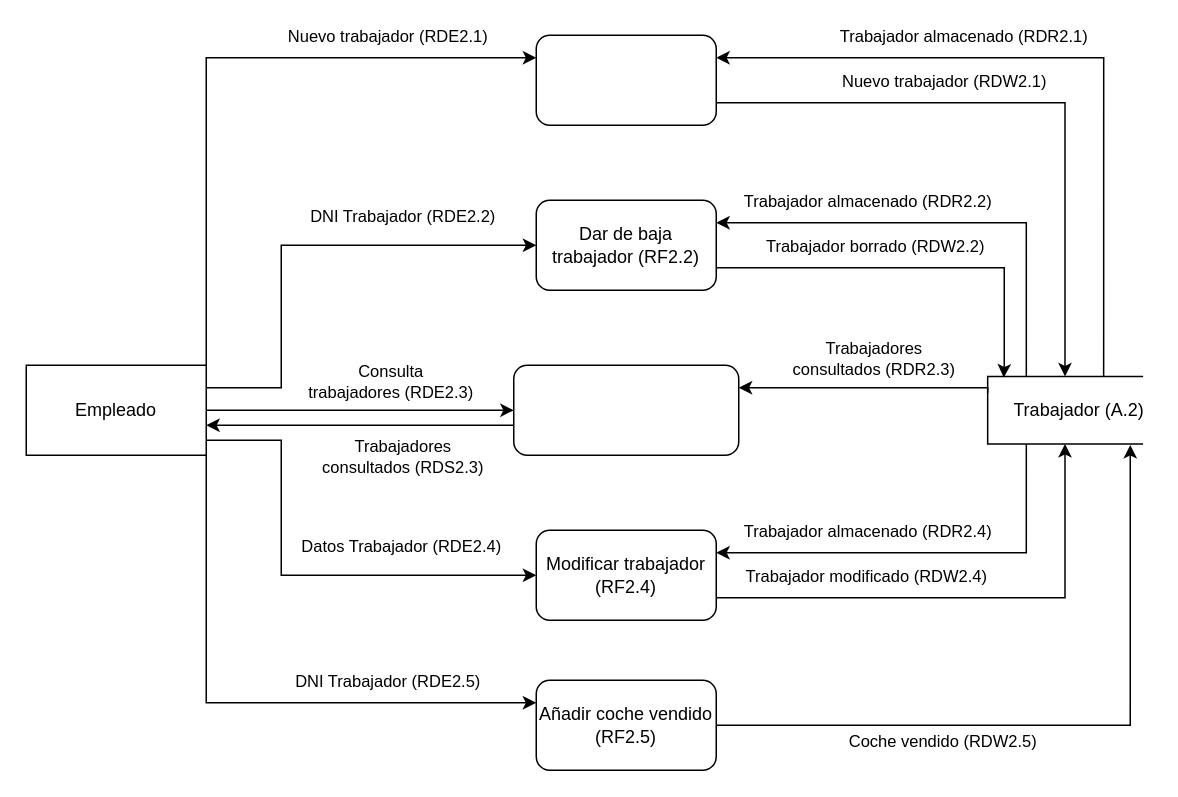
This 1178x797 diagram has some shape labels left out. The shapes that lost their labels are listed below. From the top down, each one's centre as x and y in pixels, then its label:
(625,79): Dar de alta trabajador (RF2.1)
(625,409): Listar trabajadores (RF2.3)
